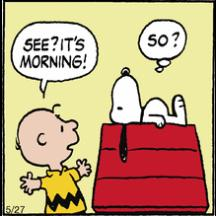charlie: (12, 104, 92, 216)
snoopy: (109, 66, 187, 164)
